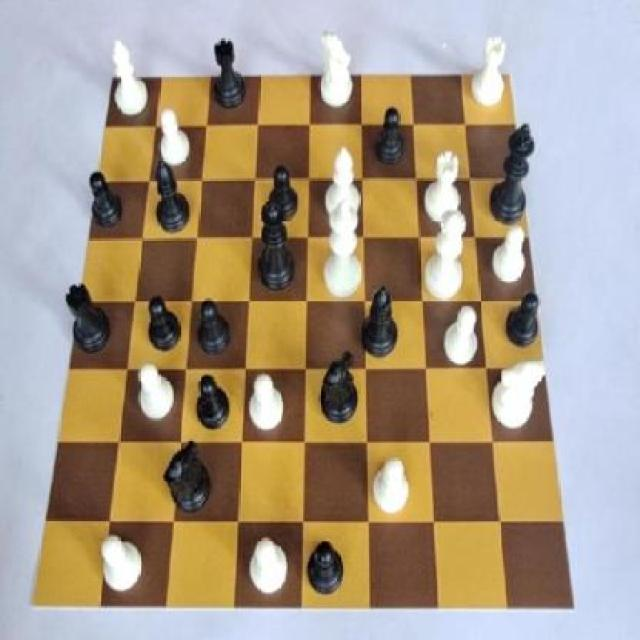bishop: (357, 277, 405, 366), (150, 158, 198, 240)
black-bishop: (484, 112, 542, 234)
black-king: (156, 436, 220, 520), (311, 342, 365, 429)
black-knight: (80, 153, 131, 234), (300, 528, 352, 602), (192, 284, 235, 364), (500, 280, 545, 355), (366, 98, 410, 172), (191, 365, 236, 436), (140, 288, 185, 358), (261, 155, 304, 227)
black-pawn: (254, 194, 304, 297)
black-queen: (62, 263, 116, 361), (205, 31, 253, 115)
black-rook: (100, 31, 153, 128), (323, 137, 367, 231)
white-bishop: (318, 192, 369, 307)
white-king: (486, 345, 552, 439), (308, 23, 363, 121)
white-knight: (94, 523, 149, 604), (364, 448, 418, 520), (242, 363, 290, 441), (244, 526, 294, 600), (131, 357, 180, 431), (151, 100, 199, 172), (488, 211, 530, 288), (442, 297, 481, 371)
white-pawn: (422, 200, 468, 311)
white-queen: (464, 26, 514, 117), (417, 145, 469, 232)
